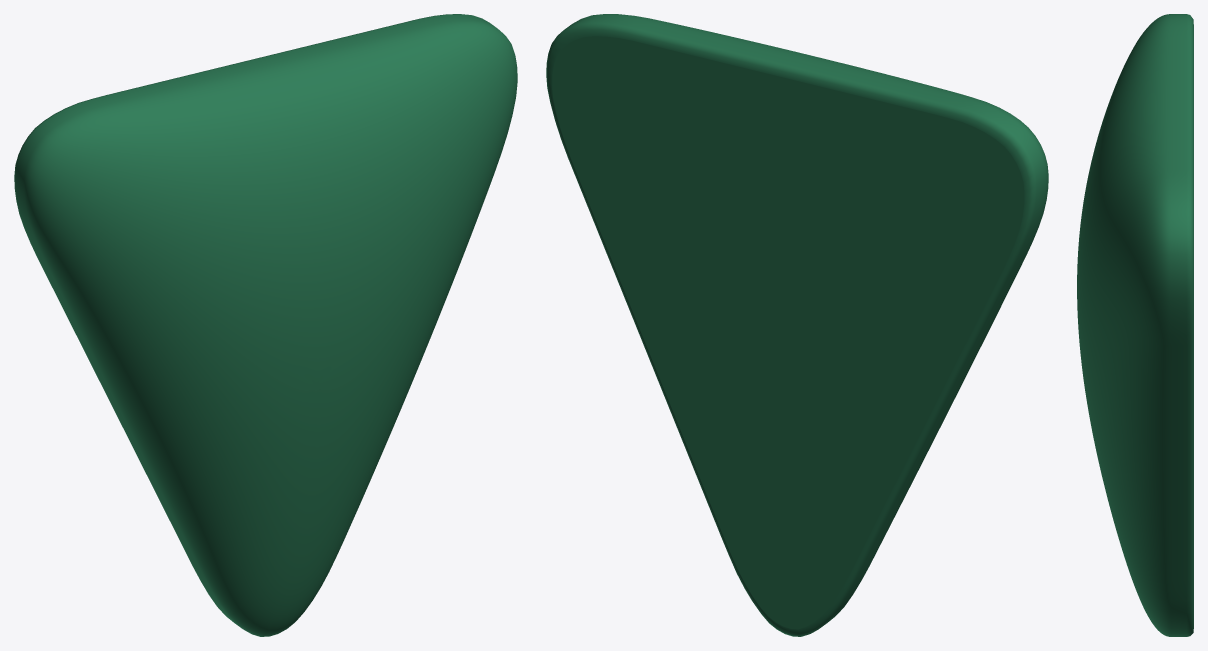
File: rounded-triangle.glb
The picture shows the model from 3 angles, left to right: view 1: azimuth 30°, elevation 25°; view 2: azimuth 150°, elevation 25°; view 3: azimuth 270°, elevation 25°; orthographic projection. The views are drawn at different scales.
Visible parts, largest first — view 1: Rounded-Triangle Cabochon 20x18x4mm; view 2: Rounded-Triangle Cabochon 20x18x4mm; view 3: Rounded-Triangle Cabochon 20x18x4mm.
Part boxes in pixels (x1,y1,x2,y2): Rounded-Triangle Cabochon 20x18x4mm: (14,14,517,636); Rounded-Triangle Cabochon 20x18x4mm: (546,14,1048,636); Rounded-Triangle Cabochon 20x18x4mm: (1077,14,1193,636).
Size of the model in its own units: 0.018 by 0.02 by 0.00398.
